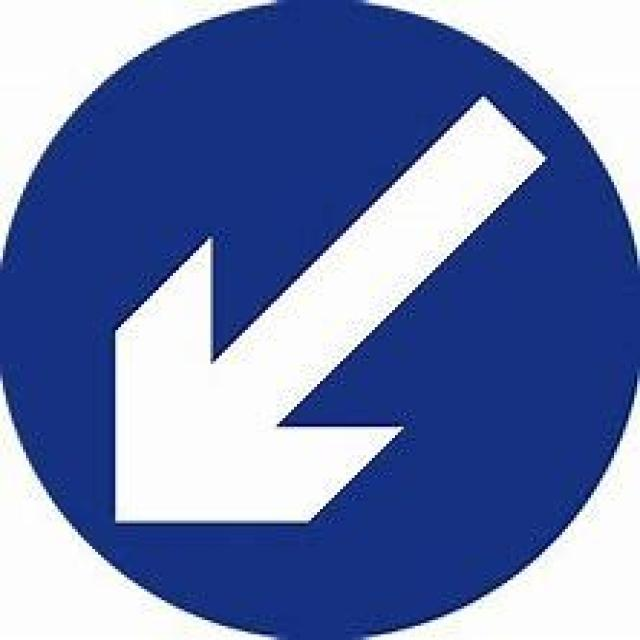compulsory_cycle_track: (0, 0, 637, 637)
